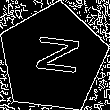N_W: (25, 35, 80, 82)
